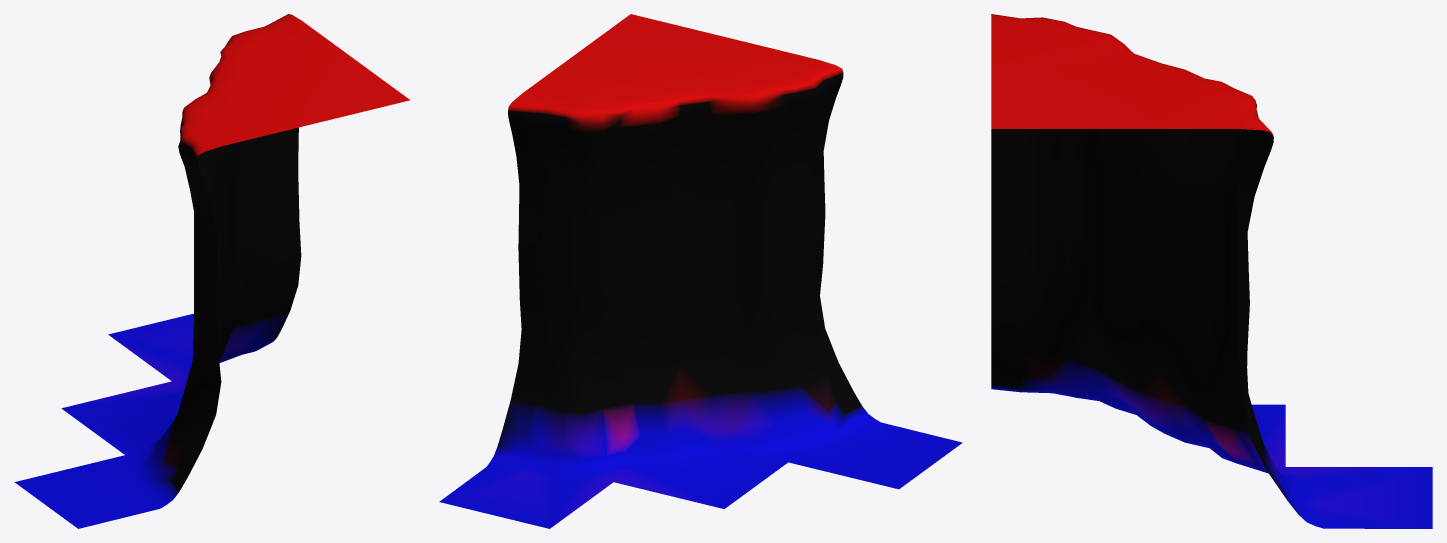
File: GroundCliff03A 3M for Water Background.fbx
The picture shows the model from 3 angles, left to right: view 1: azimuth 30°, elevation 25°; view 2: azimuth 150°, elevation 25°; view 3: azimuth 270°, elevation 25°; orthographic projection. The views are drawn at different scales.
Visible parts, largest first — view 1: GroundCliff03A 3M for Water Background; view 2: GroundCliff03A 3M for Water Background; view 3: GroundCliff03A 3M for Water Background.
Part boxes in pixels (x1,y1,x2,y2): GroundCliff03A 3M for Water Background: [14, 14, 409, 528]; GroundCliff03A 3M for Water Background: [439, 14, 962, 528]; GroundCliff03A 3M for Water Background: [991, 14, 1432, 528].
Size of the model in its own units: 3 by 3 by 3.
